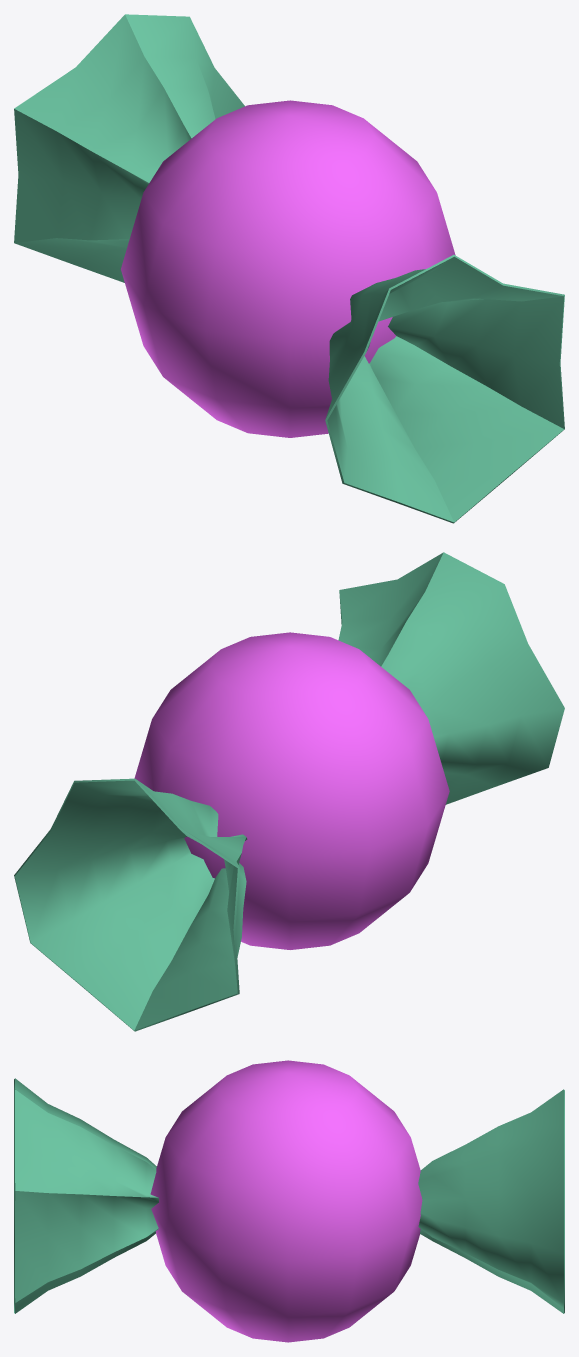
File: Candy_03.FBX
3 views of the same model, one above another, from view 1: azimuth 30°, elevation 25°; view 2: azimuth 150°, elevation 25°; view 3: azimuth 270°, elevation 25° (orthographic). The views are drawn at different scales.
Visible parts, largest first — view 1: Candy_03; view 2: Candy_03; view 3: Candy_03.
Boxes of the visible parts, box(x1,y1,x2,y2) form: Candy_03: box(14, 14, 564, 523); Candy_03: box(14, 552, 564, 1031); Candy_03: box(14, 1060, 564, 1342).
Bounding box in the file's own units: 0.304 × 0.304 × 0.5915.
